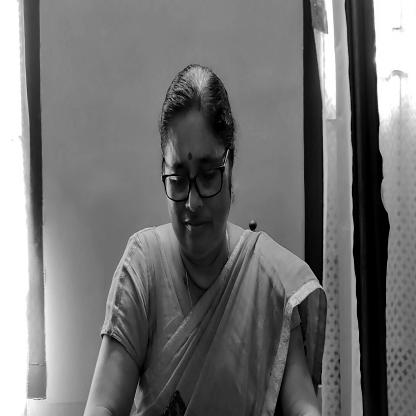Normal: (152, 64, 237, 258)
